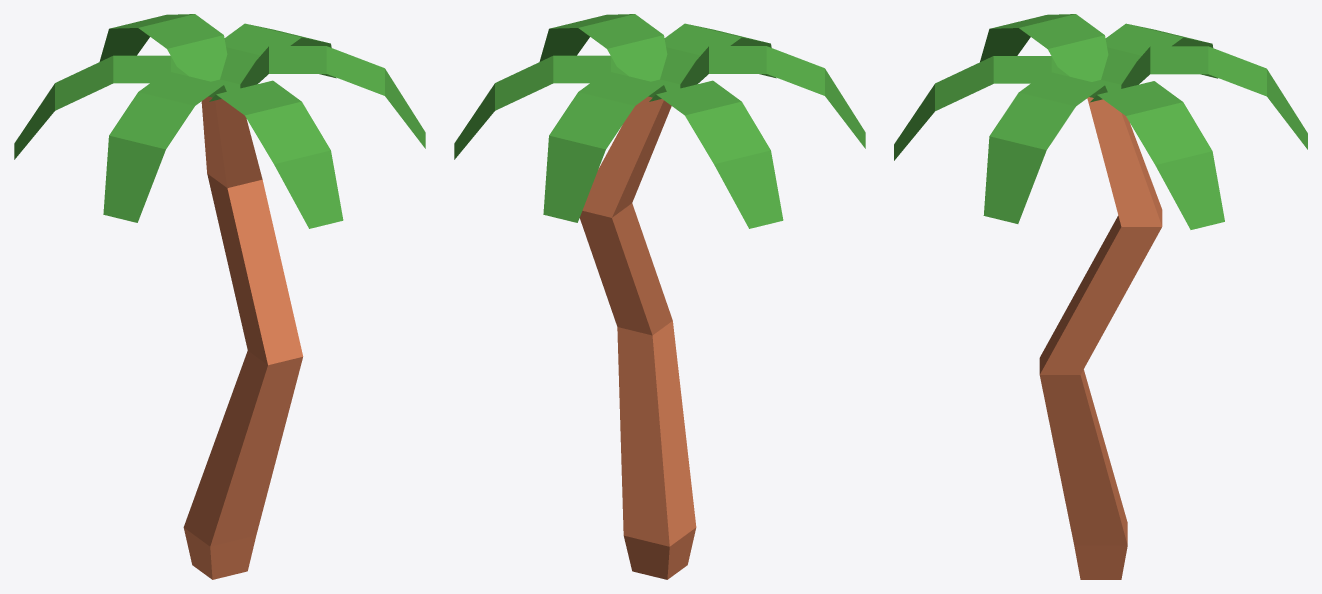
The model's file is tree_palmBend.glb.
3 views of the same model, side by side, from view 1: azimuth 30°, elevation 25°; view 2: azimuth 150°, elevation 25°; view 3: azimuth 270°, elevation 25° (orthographic).
Visible parts, largest first — view 1: tree_palmBend; view 2: tree_palmBend; view 3: tree_palmBend.
Part boxes in pixels (<box>): tree_palmBend: <box>14,14,425,579</box>; tree_palmBend: <box>454,14,865,579</box>; tree_palmBend: <box>894,14,1307,579</box>.
Bounding box in the file's own units: 0.9355 × 1.38 × 1.01.
